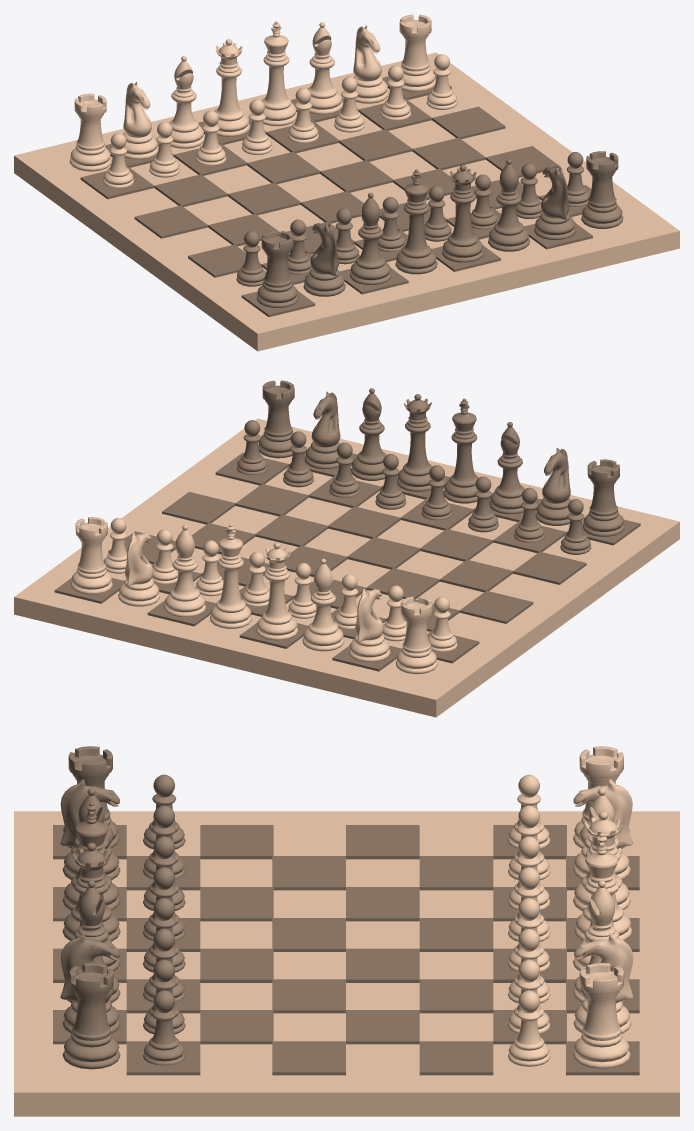
Rendered from chess.glb.
3 renders of one model, top to bottom at view 1: azimuth 30°, elevation 25°; view 2: azimuth 150°, elevation 25°; view 3: azimuth 270°, elevation 25°, orthographic. The views are drawn at different scales.
Visible parts, largest first — view 1: Cube, Cube.004, BlackKing, BlackQueen, WhiteRook2, BlackRook, BlackRook2, WhiteKing, WhiteQueen, WhiteRook, BlackBishop, BlackBishop2 (+22 smaller); view 2: Cube, Cube.004, WhiteKing, WhiteQueen, WhiteRook2, WhiteRook, BlackRook2, BlackKing, BlackQueen, BlackRook, WhiteBishop2, WhiteBishop (+22 smaller); view 3: Cube, Cube.004, BlackRook, WhiteRook, WhiteHorse, BlackHorse, BlackHorse2, WhiteHorse2, WhitePawn1, BlackPawn1, BlackKing, WhiteQueen (+22 smaller).
Boxes of the visible parts, box(x1,y1,x2,y2) form: Cube: box(14, 52, 679, 351); Cube.004: box(80, 75, 592, 317); BlackKing: box(395, 169, 437, 274); BlackQueen: box(442, 165, 484, 262); WhiteRook2: box(69, 93, 111, 171); BlackRook: box(581, 151, 623, 228); BlackRook2: box(256, 230, 298, 307); WhiteKing: box(262, 21, 297, 126); WhiteQueen: box(214, 39, 249, 136); WhiteRook: box(399, 14, 435, 91); BlackBishop: box(488, 159, 529, 251); BlackBishop2: box(349, 192, 391, 284); Cube: box(14, 418, 679, 717); Cube.004: box(54, 452, 640, 671); WhiteKing: box(210, 524, 251, 628); WhiteQueen: box(256, 542, 298, 640); WhiteRook2: box(395, 596, 437, 674); WhiteRook: box(71, 517, 112, 594); BlackRook2: box(583, 459, 624, 536); BlackKing: box(443, 398, 478, 503); BlackQueen: box(397, 394, 432, 491); BlackRook: box(258, 380, 294, 458); WhiteBishop2: box(302, 558, 344, 651); WhiteBishop: box(164, 525, 205, 617); Cube: box(14, 811, 679, 1116); Cube.004: box(53, 825, 639, 1075); BlackRook: box(62, 963, 120, 1069); WhiteRook: box(573, 963, 630, 1068); WhiteHorse: box(573, 932, 633, 1033); BlackHorse: box(60, 933, 120, 1033); BlackHorse2: box(60, 779, 120, 880); WhiteHorse2: box(573, 779, 633, 879); WhitePawn1: box(508, 990, 550, 1066); BlackPawn1: box(143, 990, 185, 1065); BlackKing: box(62, 802, 120, 941); WhiteQueen: box(574, 811, 632, 940).
Bounding box in the file's own units: 50.2 × 13.12 × 50.2.
